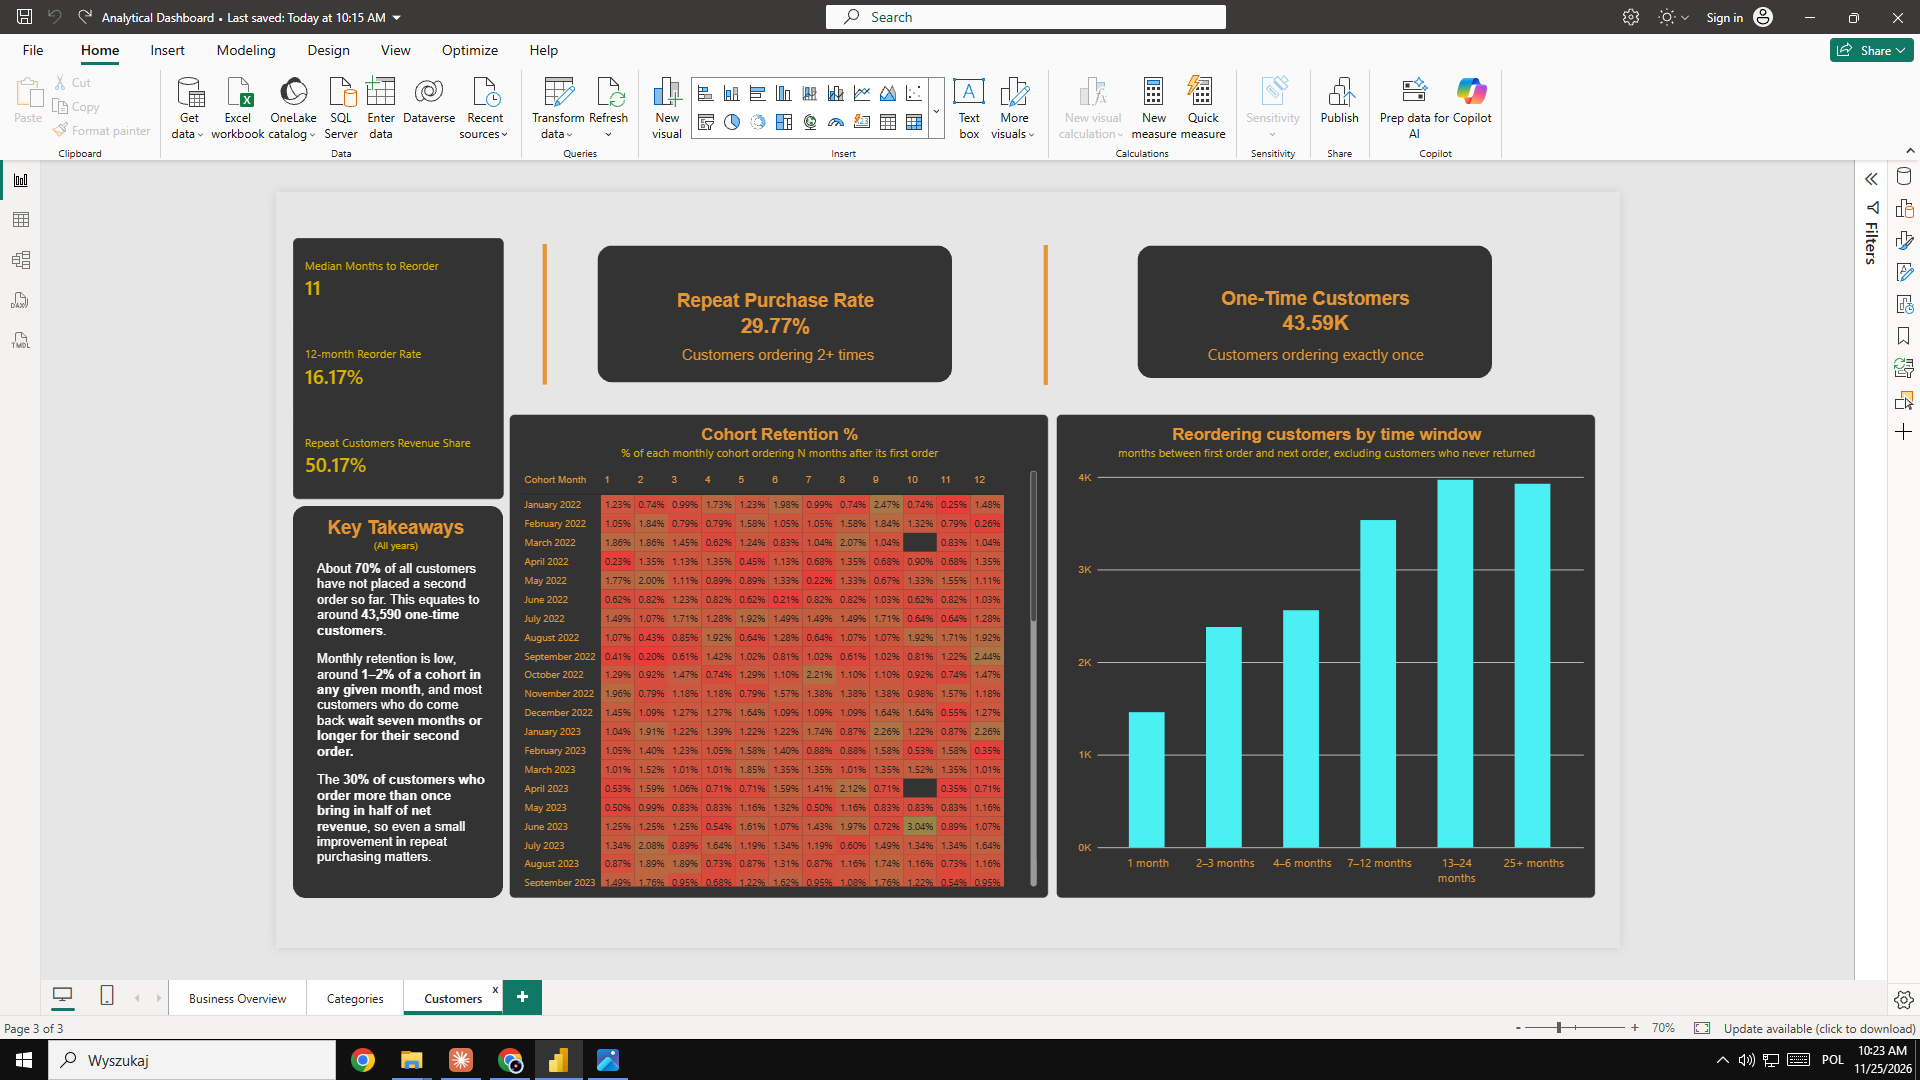

This screenshot's page, from the dashboard's own definition file:
{"tool":"powerbi","page":{"name":"Customers","canvas":[1920,1080],"ordinal":2},"visuals":[{"type":"cardVisual","title":"Repeat Purchase Rate","fields":{"Data":["Measure Table.Repeat Purchase Rate"]},"box":[458.4,75.8,508.6,197.9],"z":0,"group":"g1"},{"type":"cardVisual","title":"Repeat Purchase Rate","fields":{"Data":["Measure Table.One-Time Customers"]},"box":[1230.6,75.9,508.6,191.1],"z":0,"group":"g2"},{"type":"pivotTable","title":"Cohort Retention %","fields":{"Columns":["Order items Fact.Months Since First Order"],"Rows":["Users Dim.Cohort Month"],"Values":["Measure Table.Retention %"]},"box":[333.5,317.6,771.4,692],"z":0},{"type":"shape","title":"Key Takeaways","box":[23.8,448.6,300.2,560],"z":0,"group":"g3"},{"type":"textbox","box":[1331.8,218,510.1,64.5],"z":1000,"group":"g2"},{"type":"textbox","box":[579.8,222.2,524.1,59.7],"z":1000,"group":"g1"},{"type":"clusteredColumnChart","title":"Reordering customers by time window","fields":{"Category":["Users Dim.Reorder Window"],"Y":["Measure Table.Buying Customers"]},"box":[1114.2,317.6,771.4,692],"z":1000},{"type":"textbox","box":[45.2,464.4,251,71.1],"z":1000,"group":"g3"},{"type":"group","id":"g1","title":"Repeat Purchase Rate Card","box":[458.4,75.8,647.1,206.3],"z":2000},{"type":"group","id":"g2","title":"One-Time Customer Card","box":[1230.6,75.9,611.4,206.5],"z":3000},{"type":"shape","box":[1041.4,75.4,116.4,199.8],"z":4000},{"type":"textbox","box":[57.7,526.6,243.6,457.1],"z":4001,"group":"g3"},{"type":"shape","box":[325,74.1,116.4,201.1],"z":5000},{"type":"group","id":"g3","title":"Categories Key Takeaways Card","box":[23.8,448.6,300.2,560],"z":6000},{"type":"cardVisual","fields":{"Data":["Measure Table.Median Months to Reorder","Measure Table.12-Month Reorder Rate","Measure Table.Repeat Customers Revenue Share"]},"box":[24.2,65,300.9,373.4],"z":7000}]}

Visuals, with their boxes on the page's 1920x1080 design canvas (x1, y1, x2, y2). These are canvas units, not pixel positions in the 1920x1080 screenshot, which may show the page scaled, cropped or inside an application window:
"Repeat Purchase Rate" cardVisual: [x1=458, y1=76, x2=967, y2=274]
"Repeat Purchase Rate" cardVisual: [x1=1231, y1=76, x2=1739, y2=267]
"Cohort Retention %" pivotTable: [x1=334, y1=318, x2=1105, y2=1010]
"Key Takeaways" shape: [x1=24, y1=449, x2=324, y2=1009]
textbox: [x1=1332, y1=218, x2=1842, y2=282]
textbox: [x1=580, y1=222, x2=1104, y2=282]
"Reordering customers by time window" clusteredColumnChart: [x1=1114, y1=318, x2=1886, y2=1010]
textbox: [x1=45, y1=464, x2=296, y2=536]
"Repeat Purchase Rate Card" group: [x1=458, y1=76, x2=1106, y2=282]
"One-Time Customer Card" group: [x1=1231, y1=76, x2=1842, y2=282]
shape: [x1=1041, y1=75, x2=1158, y2=275]
textbox: [x1=58, y1=527, x2=301, y2=984]
shape: [x1=325, y1=74, x2=441, y2=275]
"Categories Key Takeaways Card" group: [x1=24, y1=449, x2=324, y2=1009]
cardVisual - Measure Table.Median Months to Reorder x Measure Table.12-Month Reorder Rate: [x1=24, y1=65, x2=325, y2=438]
